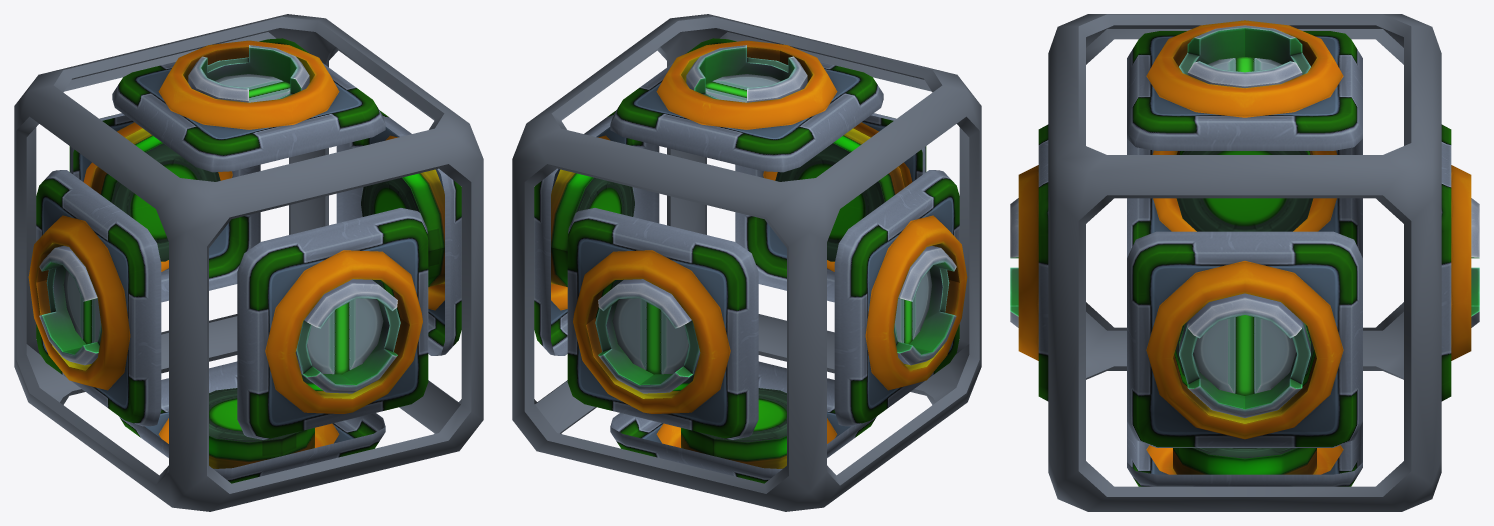
Rendered from fant_mcp_off.obj.
3 renders of one model, left to right at view 1: azimuth 30°, elevation 25°; view 2: azimuth 150°, elevation 25°; view 3: azimuth 270°, elevation 25°, orthographic. The views are drawn at different scales.
Parts seen in each view (by area): view 1: fant_multiconnectionpoint_off; view 2: fant_multiconnectionpoint_off; view 3: fant_multiconnectionpoint_off.
Boxes of the visible parts, left/top/right/bottom form: fant_multiconnectionpoint_off: left=14, top=14, right=483, bottom=511; fant_multiconnectionpoint_off: left=512, top=14, right=981, bottom=511; fant_multiconnectionpoint_off: left=1010, top=14, right=1479, bottom=511.
Size of the model in its own units: 3.54 by 3.54 by 3.54.
